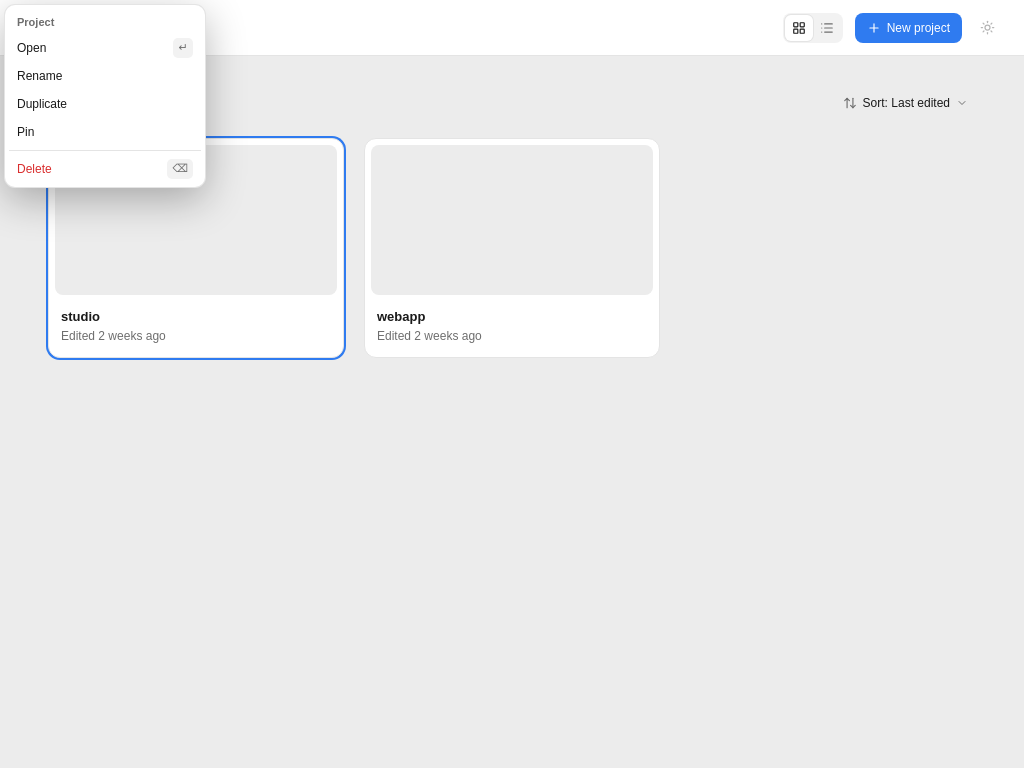
Scenario: project actions › raises the error toast for any other refusal
The width and height of the screenshot is (1024, 768).
Click the menu item "Duplicate". click: (42, 104)
box: [17,97,67,111]
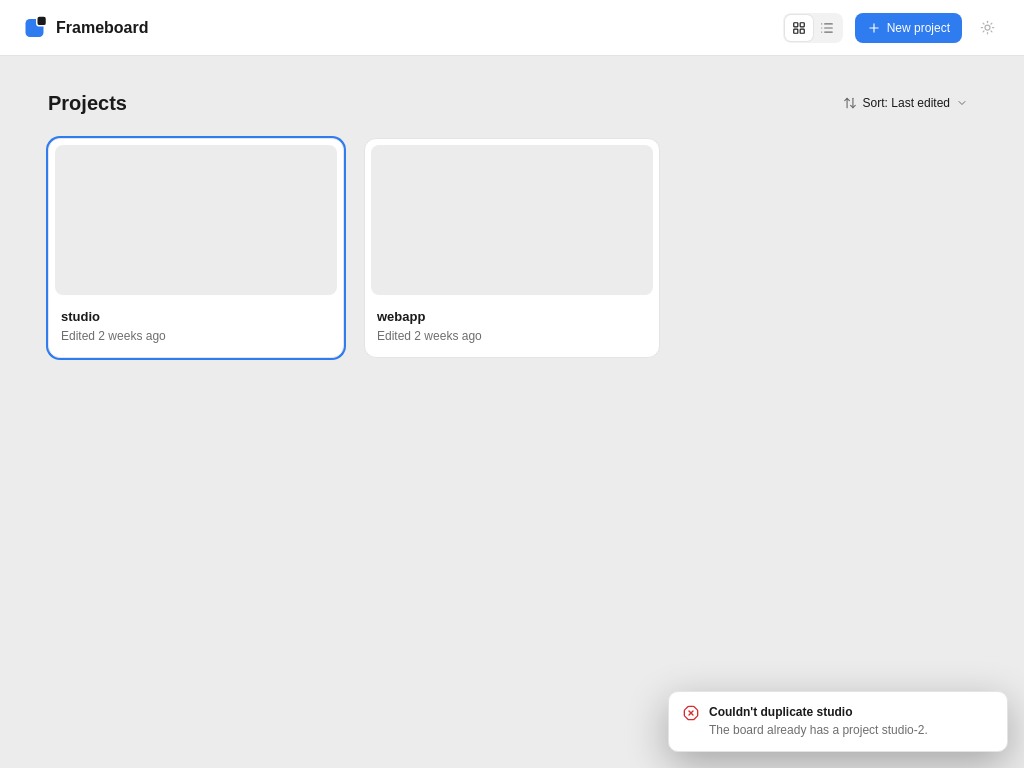
Expected: the heading "Couldn't duplicate studio" is shown, [709,705,852,719]
